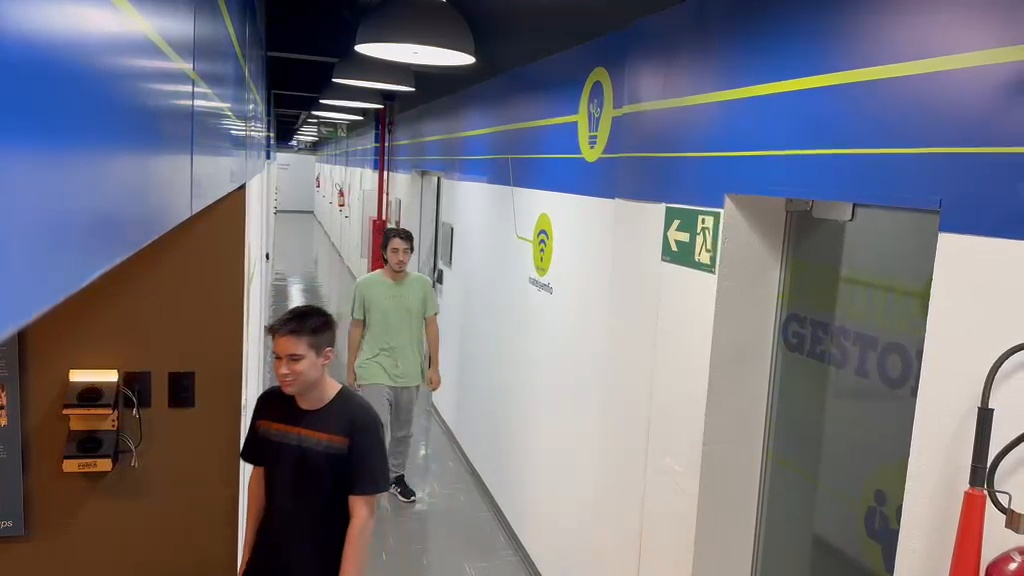person: (240, 304, 392, 573), (345, 224, 442, 505)
